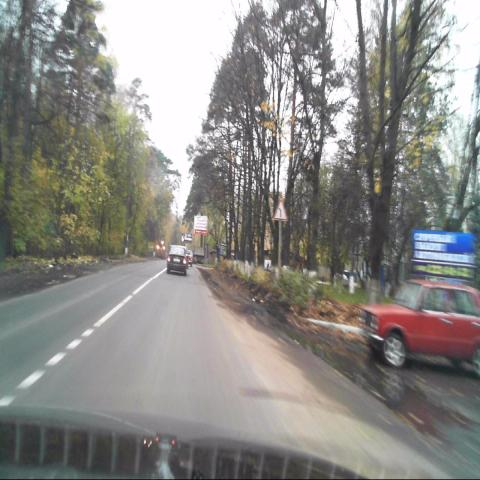1_11_1: (273, 198, 288, 221)
